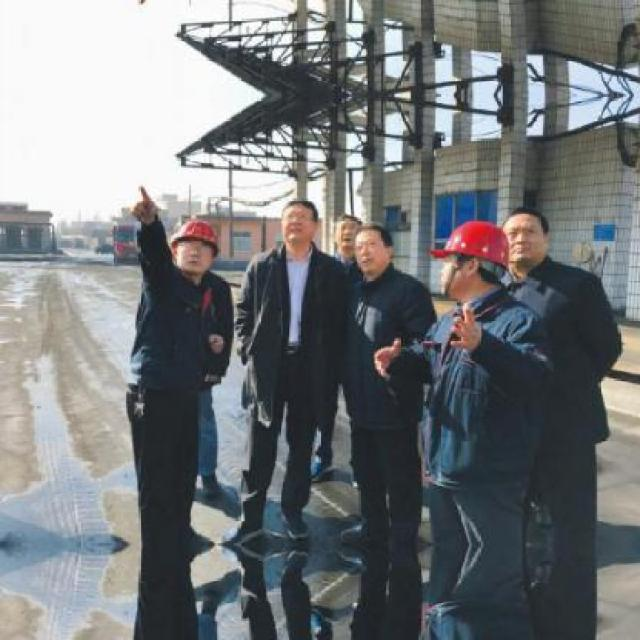helmet: (428, 215, 515, 272), (169, 215, 225, 263)
